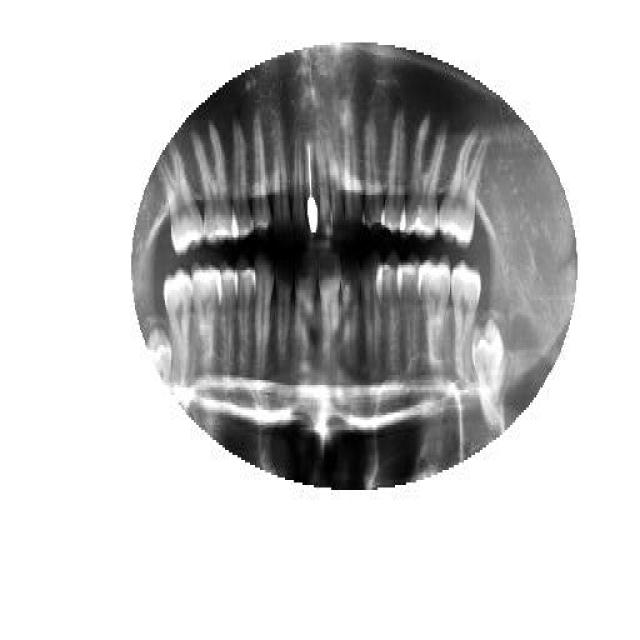Impacted Tooth: (470, 308, 505, 432)
Implant: (304, 132, 320, 240)
